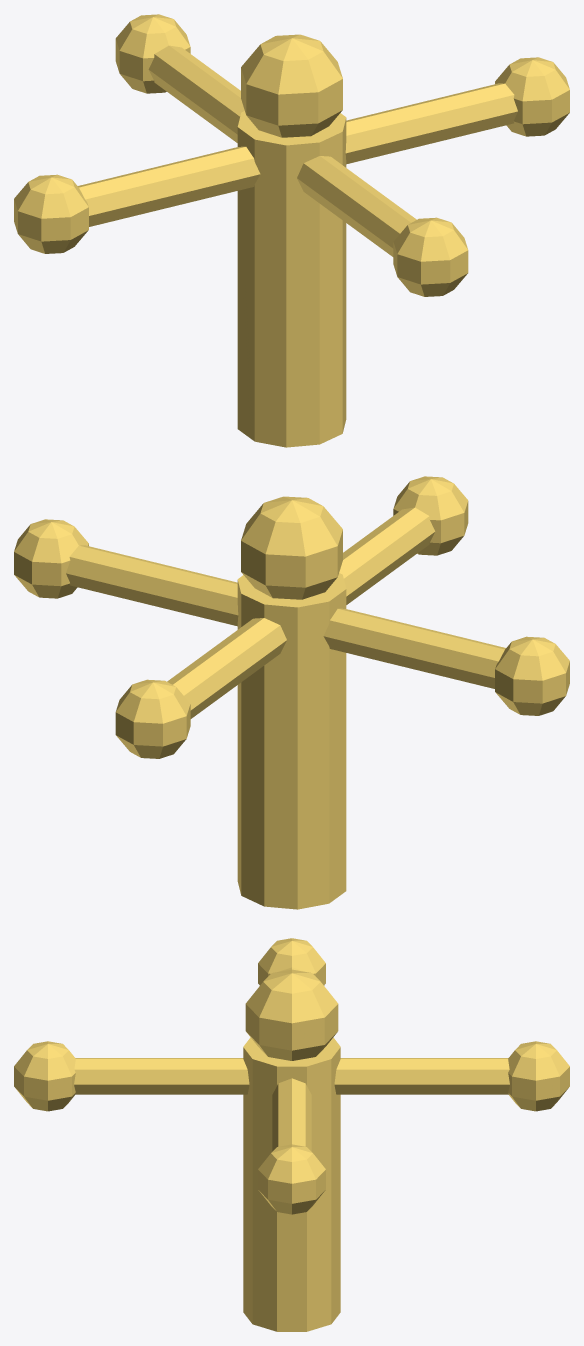
The model's file is wheel_turret.glb.
3 views of the same model, one above another, from view 1: azimuth 30°, elevation 25°; view 2: azimuth 150°, elevation 25°; view 3: azimuth 270°, elevation 25° (orthographic). The views are drawn at different scales.
Parts seen in each view (by area): view 1: wheel_turret; view 2: wheel_turret; view 3: wheel_turret.
Part boxes in pixels (x1=…): wheel_turret: x1=14, y1=14, x2=569, y2=447; wheel_turret: x1=14, y1=476, x2=569, y2=909; wheel_turret: x1=14, y1=938, x2=569, y2=1331.
Size of the model in its own units: 0.3418 by 0.23 by 0.3418.
